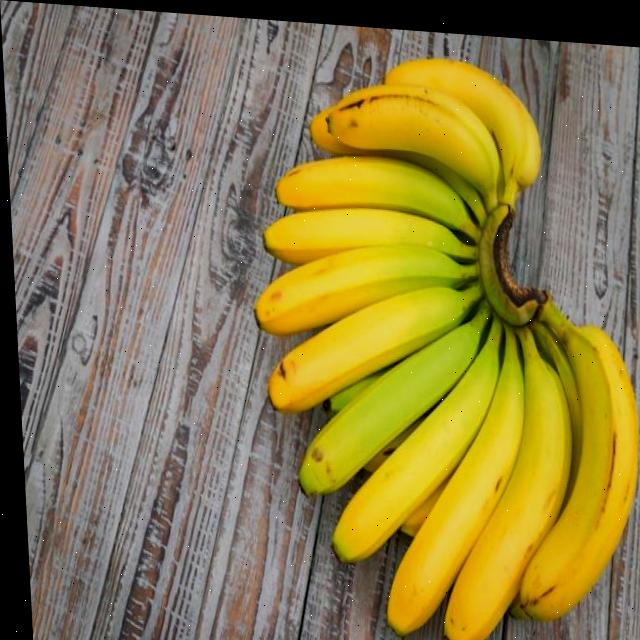banana: (236, 37, 640, 640)
